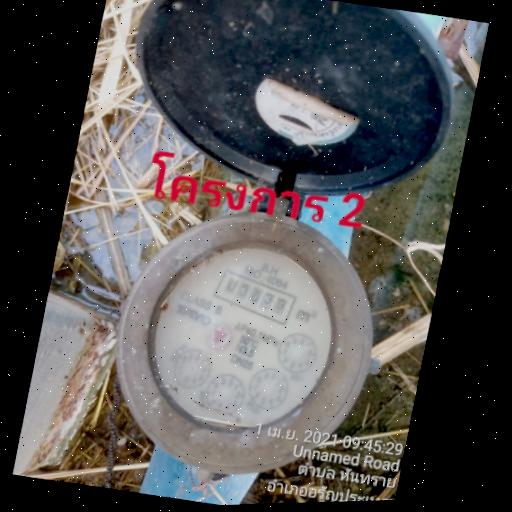0: (222, 276, 240, 295)
3: (259, 290, 276, 310), (234, 281, 252, 299)
6: (246, 284, 265, 305)
9: (271, 295, 288, 316)
border_water_meter_number: (209, 262, 301, 329)
